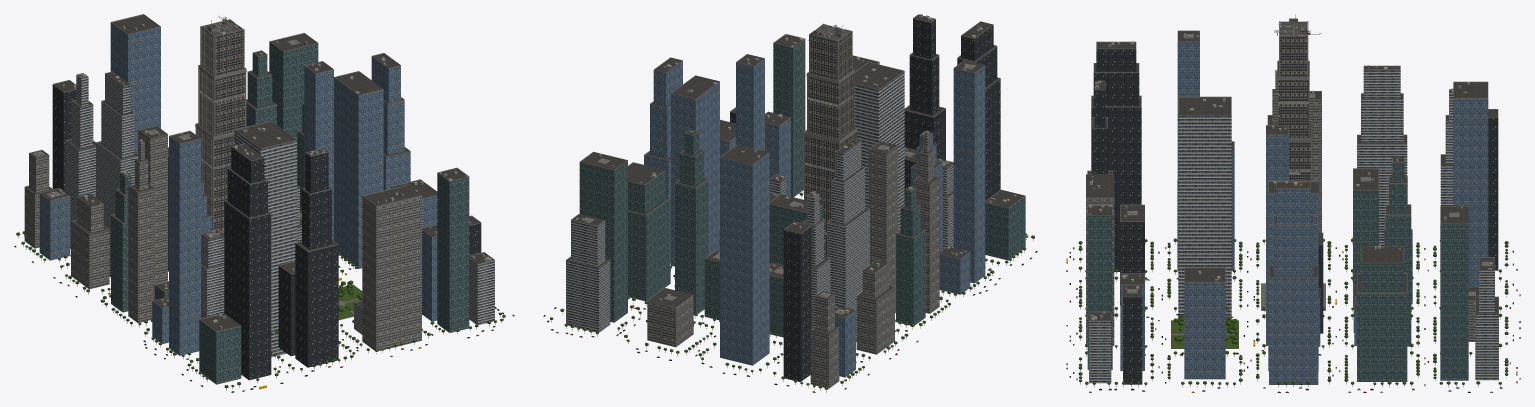
The model's file is Envirnment.gltf.
The picture shows the model from 3 angles, left to right: view 1: azimuth 30°, elevation 25°; view 2: azimuth 150°, elevation 25°; view 3: azimuth 270°, elevation 25°; orthographic projection. The views are drawn at different scales.
Visible parts, largest first — view 1: Bldg_Near_43, Bldg_Near_16, Bldg_Near_05, Bldg_Near_18, Bldg_Near_38, Bldg_Near_04, Bldg_Near_24, Bldg_Near_03, Bldg_Near_33, Bldg_Near_28, Bldg_Near_21, Bldg_Near_19 (+28 smaller); view 2: Bldg_Near_03, Bldg_Near_38, Bldg_Near_33, Bldg_Near_20, Bldg_Near_18, Bldg_Near_21, Bldg_Near_14, Bldg_Near_04, Bldg_Near_22, Bldg_Near_37, Bldg_Near_05, Bldg_Near_24 (+29 smaller); view 3: Bldg_Near_04, Bldg_Near_19, Bldg_Near_20, Bldg_Near_43, Bldg_Near_03, Bldg_Near_33, Bldg_Near_21, Bldg_Near_23, City_StreetTrees, Bldg_Near_24, Bldg_Near_22, Bldg_Near_14 (+26 smaller).
Boxes of the visible parts, x1,y1,x2,y2 form: Bldg_Near_43: (224,143,271,380); Bldg_Near_16: (362,185,421,351); Bldg_Near_05: (295,148,338,367); Bldg_Near_18: (334,71,383,268); Bldg_Near_38: (169,130,200,355); Bldg_Near_04: (234,121,296,357); Bldg_Near_24: (437,167,469,332); Bldg_Near_03: (110,14,160,154); Bldg_Near_33: (96,71,138,277); Bldg_Near_28: (128,139,154,322); Bldg_Near_21: (269,33,318,184); Bldg_Near_19: (371,53,410,190); Bldg_Near_03: (720,144,769,365); Bldg_Near_38: (953,60,985,283); Bldg_Near_33: (827,138,869,342); Bldg_Near_20: (628,162,670,301); Bldg_Near_18: (671,75,719,266); Bldg_Near_21: (579,151,627,322); Bldg_Near_14: (675,129,708,314); Bldg_Near_04: (852,62,904,231); Bldg_Near_22: (566,214,610,332); Bldg_Near_37: (783,221,811,381); Bldg_Near_05: (904,14,945,160); Bldg_Near_24: (773,34,805,197); Bldg_Near_04: (1178,96,1231,320); Bldg_Near_19: (1269,181,1318,384); Bldg_Near_20: (1357,245,1407,381); Bldg_Near_43: (1091,41,1141,271); Bldg_Near_03: (1453,81,1488,286); Bldg_Near_33: (1357,65,1407,246); Bldg_Near_21: (1440,206,1468,380); Bldg_Near_23: (1184,267,1225,379); City_StreetTrees: (1078,238,1508,386); Bldg_Near_24: (1087,205,1112,369); Bldg_Near_22: (1475,257,1498,380); Bldg_Near_14: (1385,157,1411,346).
Size of the model in its own units: 495 by 453 by 616.
